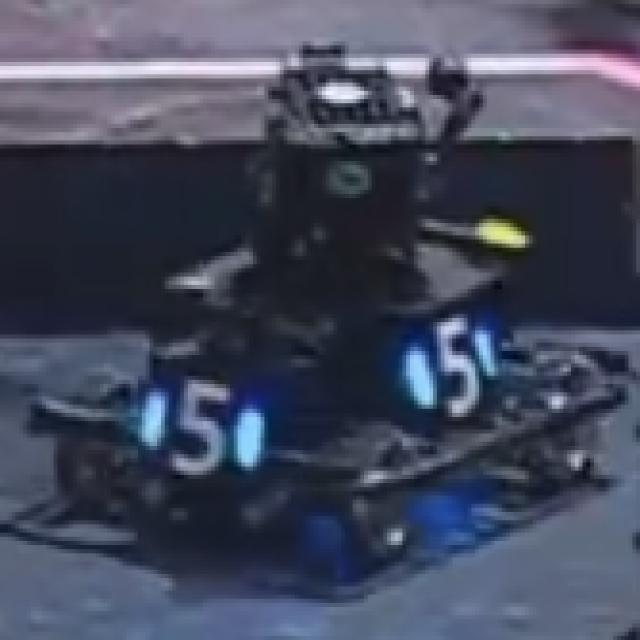B5: (142, 363, 268, 479), (410, 306, 506, 417)
